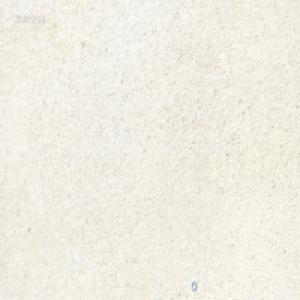Washer: (190, 280, 197, 292)
